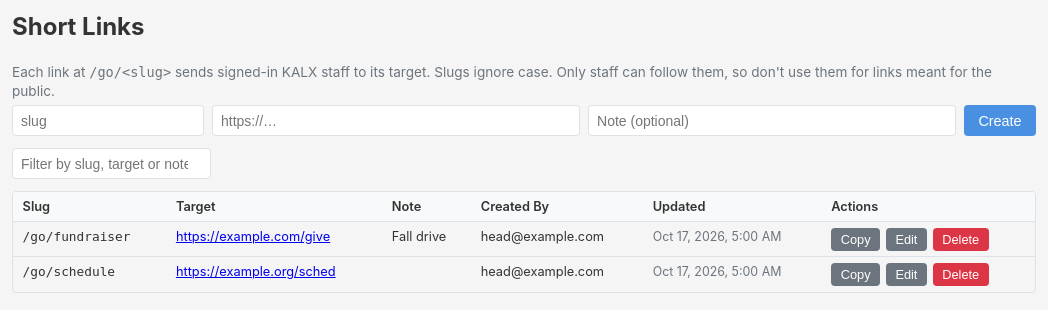
Test case: ShortLinksSection › copies the full short link
This screenshot has width=1048, height=310.
Click the button with aria-label "Copy /go/schedule" at (856, 274), box [831,263,880,286]
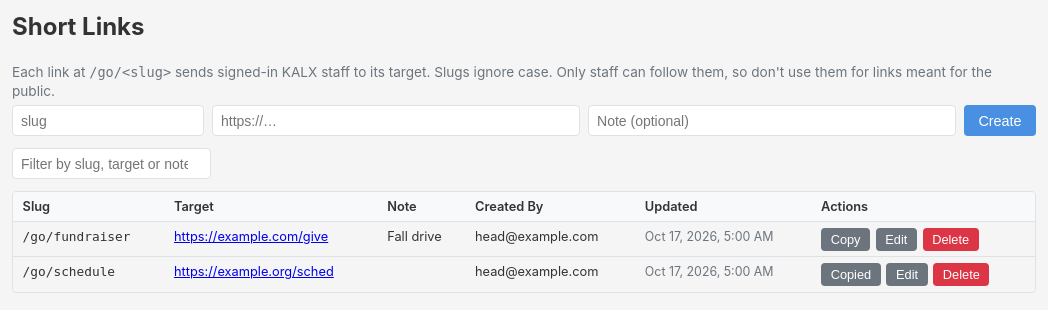
Expected: the button "Copied" is shown, [821,263,881,286]
